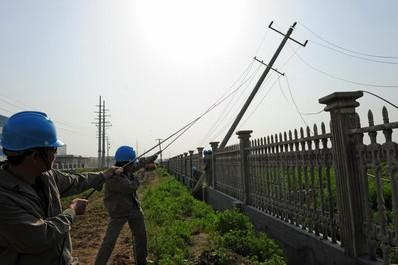hard-hat: (1, 110, 65, 151), (113, 145, 135, 164)
person: (1, 109, 122, 265), (94, 145, 158, 265)
ppe-suit: (1, 164, 104, 263), (87, 147, 157, 263)
